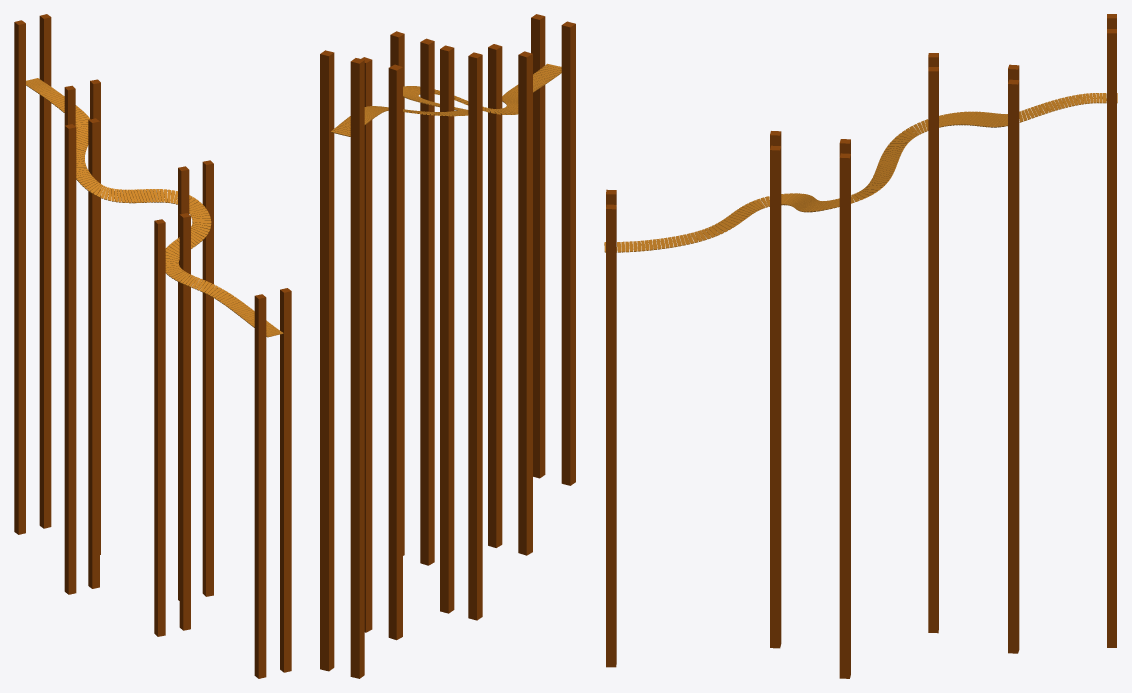
Rendered from Pont_pour_Mid.fbx.
3 views of the same model, side by side, from view 1: azimuth 30°, elevation 25°; view 2: azimuth 150°, elevation 25°; view 3: azimuth 270°, elevation 25° (orthographic). The views are drawn at different scales.
Visible parts, largest first — view 1: Pont pour Mid; view 2: Pont pour Mid; view 3: Pont pour Mid.
Part boxes in pixels (left/top/right/bottom): Pont pour Mid: left=14, top=14, right=291, bottom=678; Pont pour Mid: left=320, top=14, right=575, bottom=678; Pont pour Mid: left=604, top=14, right=1117, bottom=678.
Size of the model in its own units: 2946 by 13165 by 9964.
